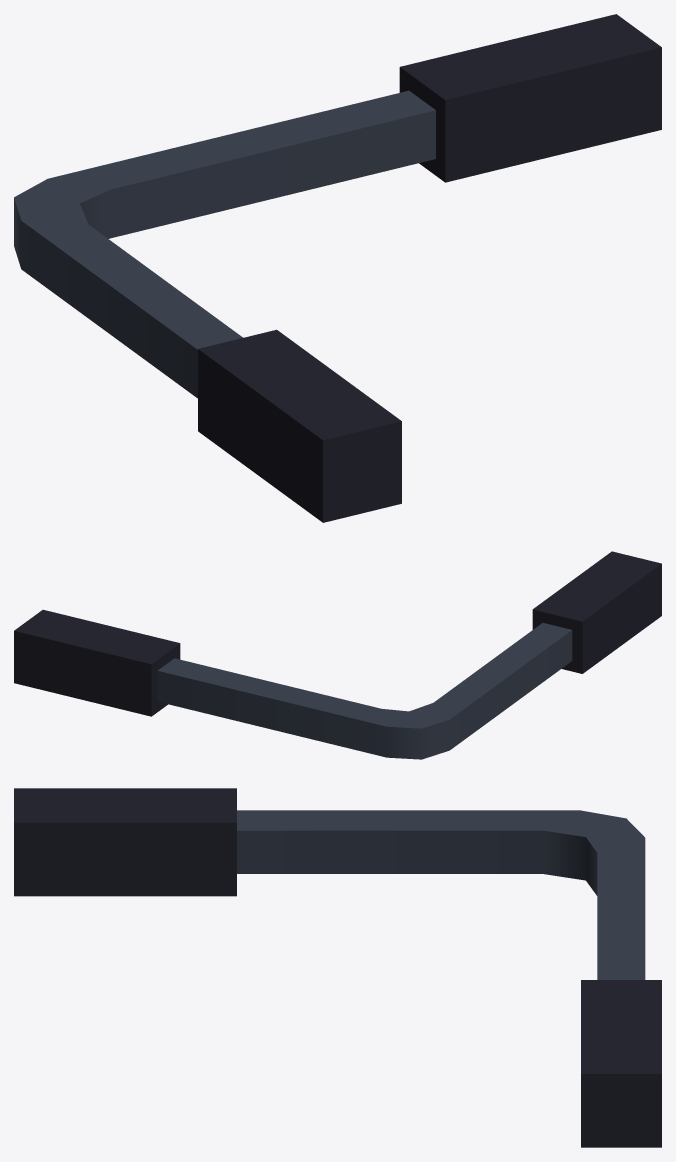
The model's file is Cable_C_2_2.fbx.
3 renders of one model, top to bottom at view 1: azimuth 30°, elevation 25°; view 2: azimuth 150°, elevation 25°; view 3: azimuth 270°, elevation 25°, orthographic. The views are drawn at different scales.
Parts seen in each view (by area): view 1: Cable_C_2_2; view 2: Cable_C_2_2; view 3: Cable_C_2_2.
Part boxes in pixels (x1,y1,x2,y2): Cable_C_2_2: (14, 14, 661, 522); Cable_C_2_2: (14, 551, 661, 759); Cable_C_2_2: (14, 788, 661, 1147).
Size of the model in its own units: 81.88 by 9.83 by 78.5.
